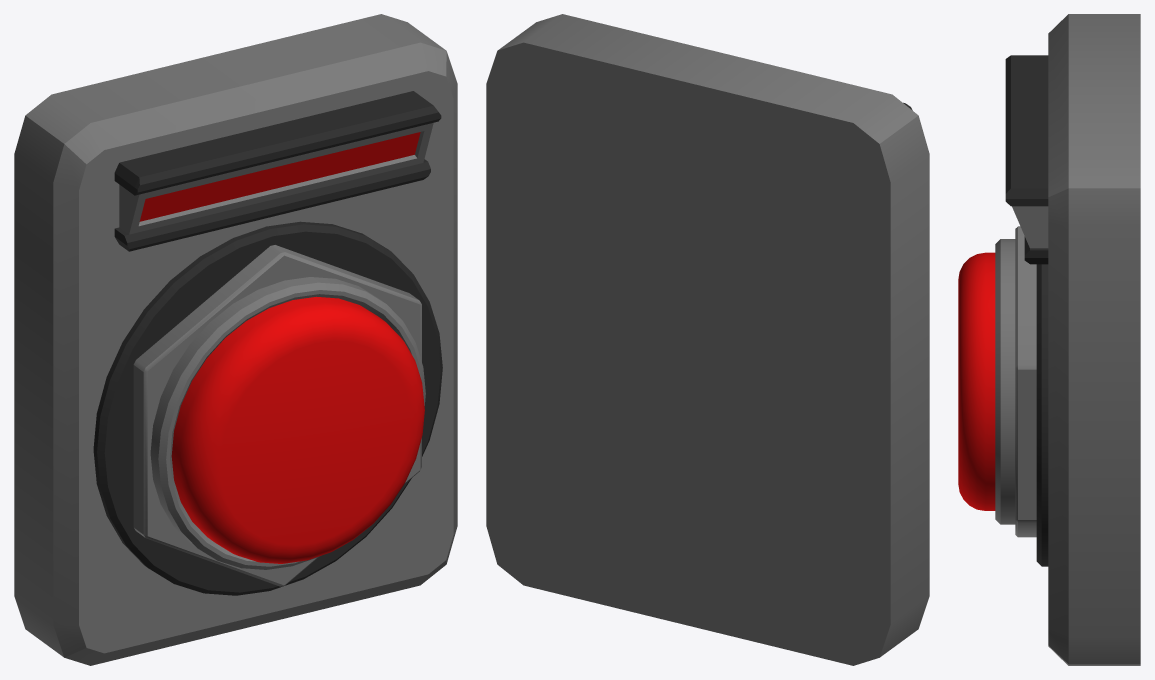
The model's file is Button_1.fbx.
The picture shows the model from 3 angles, left to right: view 1: azimuth 30°, elevation 25°; view 2: azimuth 150°, elevation 25°; view 3: azimuth 270°, elevation 25°; orthographic projection. The views are drawn at different scales.
Visible parts, largest first — view 1: Cube.007, Actual Button, Cube.009; view 2: Cube.007; view 3: Cube.007, Actual Button, Cube.009.
Boxes of the visible parts, x1,y1,x2,y2 form: Cube.007: (14,14,457,665); Actual Button: (171,296,424,563); Cube.009: (114,91,441,251); Cube.007: (486,14,929,665); Cube.007: (995,14,1140,665); Actual Button: (958,252,995,510); Cube.009: (1005,55,1048,264).
Size of the model in its own units: 8.88 by 11.4 by 3.75.
